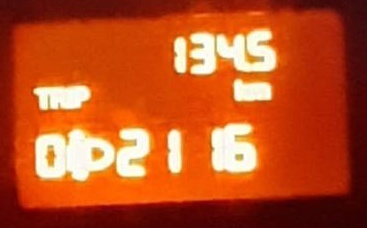-: (243, 57, 250, 74)
0: (33, 129, 64, 181)
1: (164, 124, 185, 177), (170, 30, 188, 76), (211, 121, 225, 176)
2: (116, 123, 153, 181)
3: (190, 28, 214, 76)
4: (215, 31, 244, 71)
5: (246, 25, 279, 72)
6: (224, 120, 259, 173)
X: (248, 82, 273, 102), (231, 76, 248, 105), (74, 82, 91, 109), (31, 85, 48, 111), (49, 83, 63, 109), (65, 83, 74, 110)
